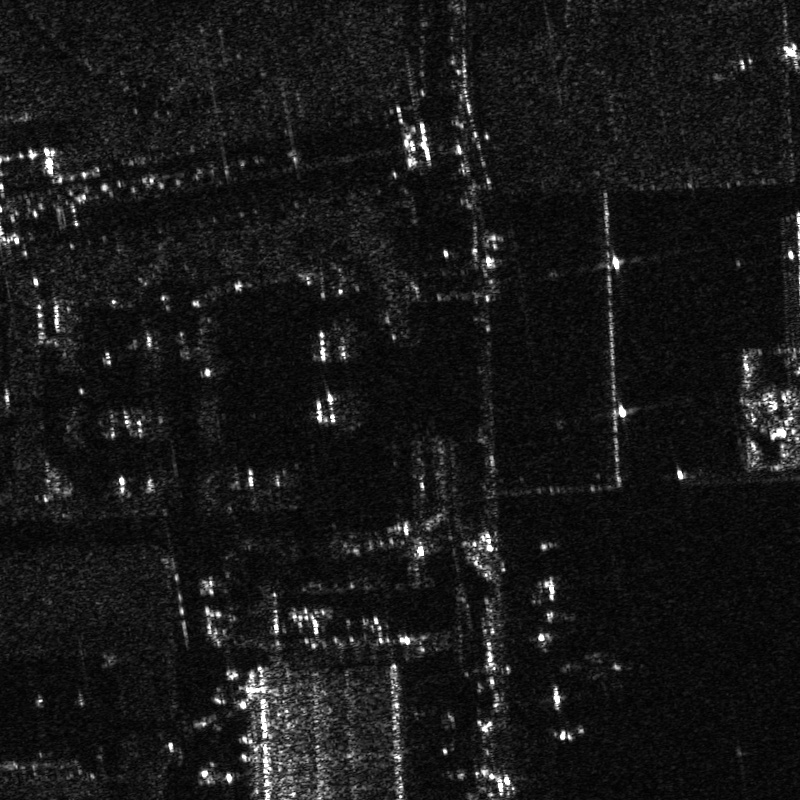Boeing737: (556, 647, 630, 689)
